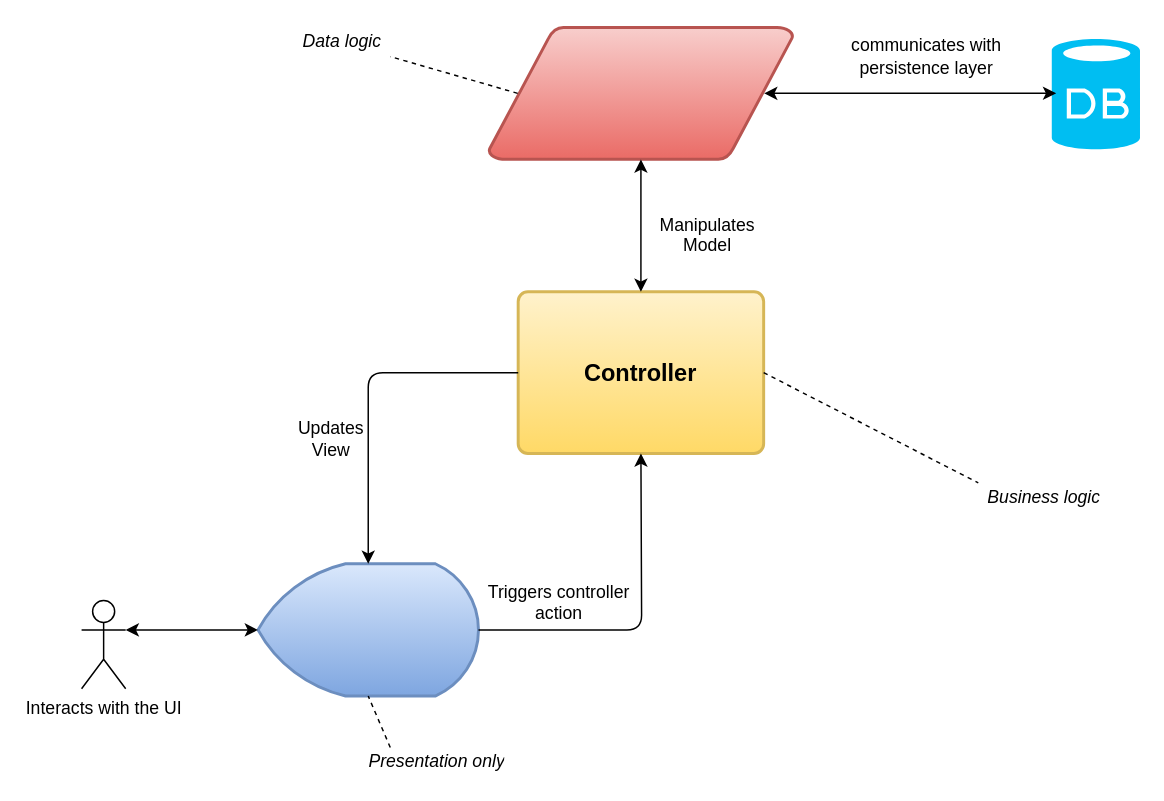
This 1164x801 diagram has some shape labels left out. Each missing label, with the centre of its shape:
Model: the point at 640,92
View: the point at 367,629
